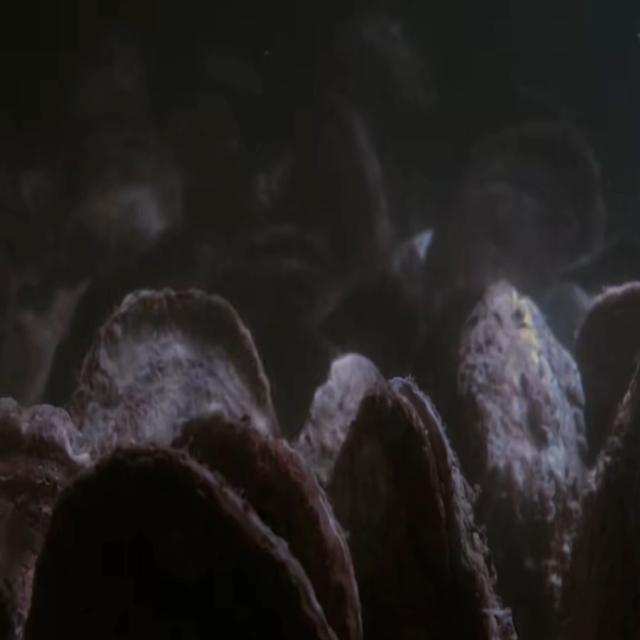Oyster-Closed: (25, 444, 338, 640), (169, 406, 362, 640), (0, 396, 100, 640)
Oyster-Indeterminate: (67, 287, 280, 640), (450, 276, 591, 640), (421, 119, 608, 342), (295, 354, 388, 640), (286, 95, 399, 290), (62, 130, 187, 290), (572, 281, 640, 514)
Oyster-Open: (323, 375, 516, 640), (212, 217, 340, 336)
